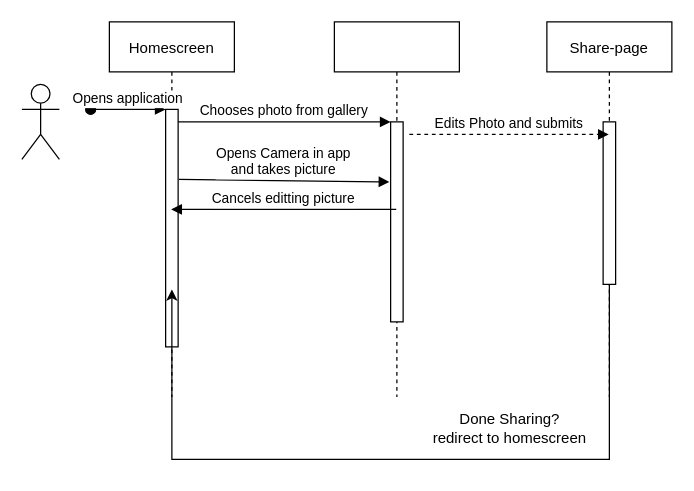
This 694x491 diagram has some shape labels left out. Each missing label, with the box of its shape:
Actor: (21, 83, 59, 159)
Edit-realm: (333, 21, 459, 397)
